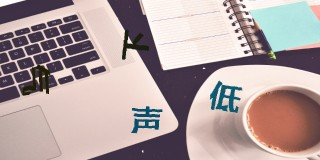下: (121, 29, 150, 59)
低: (209, 81, 242, 113)
声: (130, 104, 162, 134)
气: (22, 65, 50, 97)
